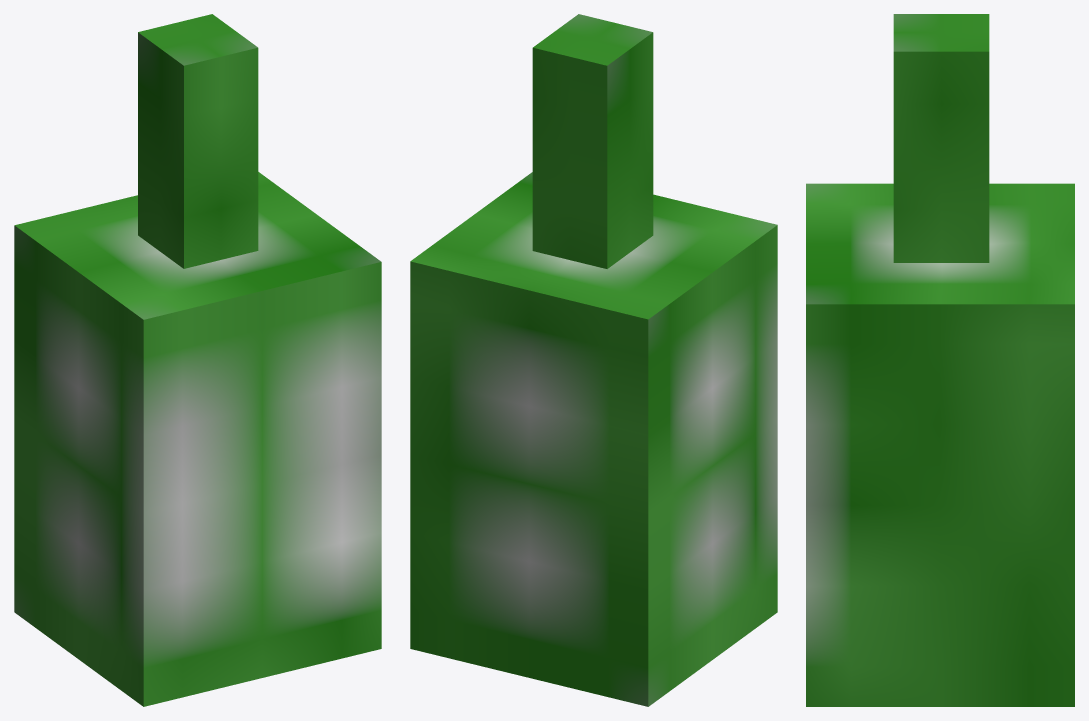
The model's file is beer.fbx.
3 renders of one model, left to right at view 1: azimuth 30°, elevation 25°; view 2: azimuth 150°, elevation 25°; view 3: azimuth 270°, elevation 25°, orthographic. The views are drawn at different scales.
Parts seen in each view (by area): view 1: beer; view 2: beer; view 3: beer.
Boxes of the visible parts, box(x1,y1,x2,y2) form: beer: box(14, 14, 381, 706); beer: box(410, 14, 777, 706); beer: box(806, 14, 1074, 706).
Size of the model in its own units: 3.2 by 7.6 by 3.01.
